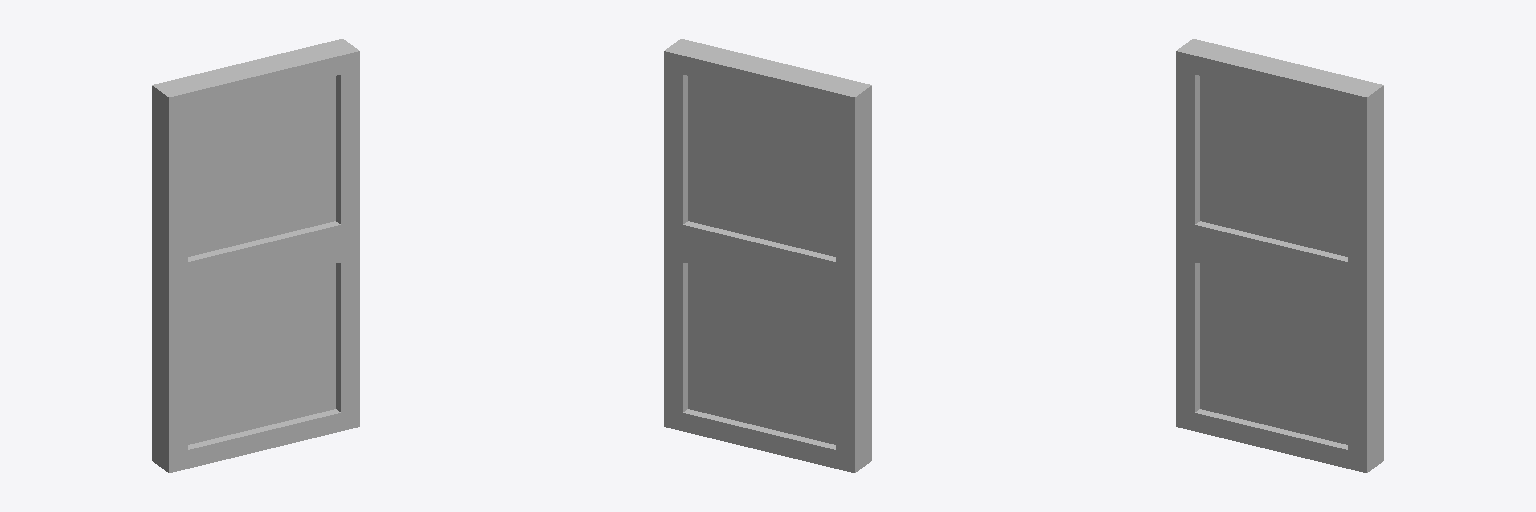
Rendered from door.obj.
The picture shows the model from 3 angles: view 1: azimuth 30°, elevation 25°; view 2: azimuth 150°, elevation 25°; view 3: azimuth 330°, elevation 25°; orthographic projection.
Visible parts, largest first — view 1: Cube; view 2: Cube; view 3: Cube.
Part boxes in pixels (left/top/right/bottom): Cube: left=152, top=39, right=359, bottom=472; Cube: left=664, top=39, right=871, bottom=472; Cube: left=1176, top=39, right=1383, bottom=472.
Size of the model in its own units: 1 by 1.88 by 0.1548.